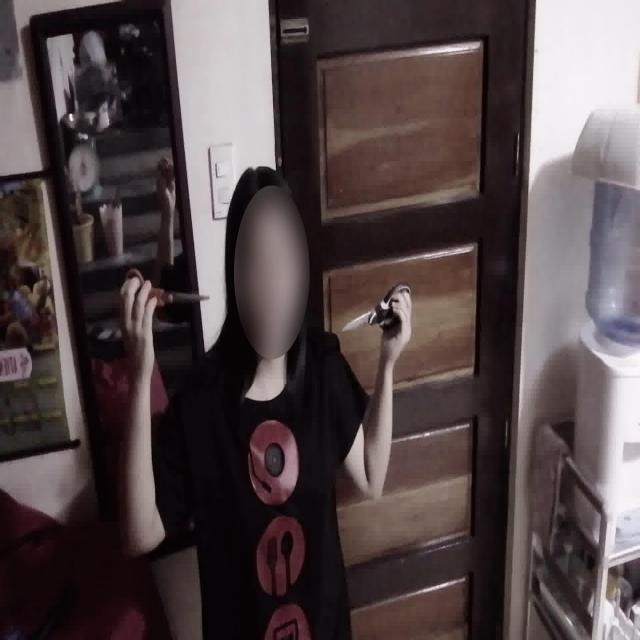scissor: (123, 266, 211, 316), (342, 280, 412, 336)
